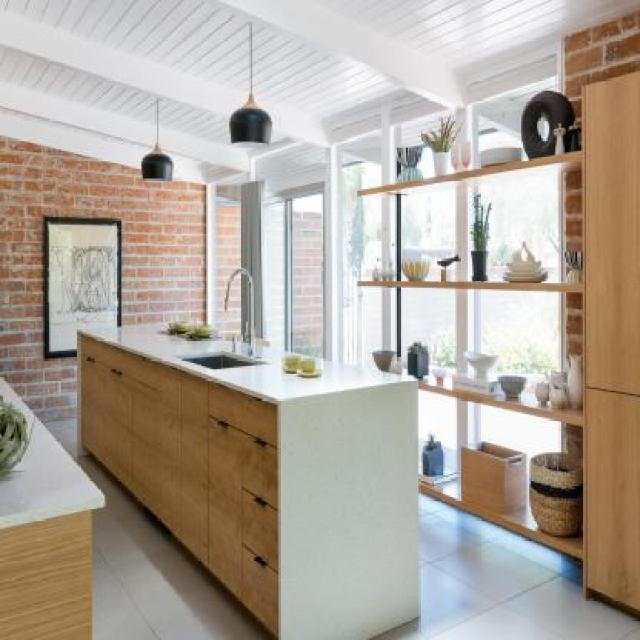floor: (375, 484, 640, 640), (68, 447, 273, 638)
